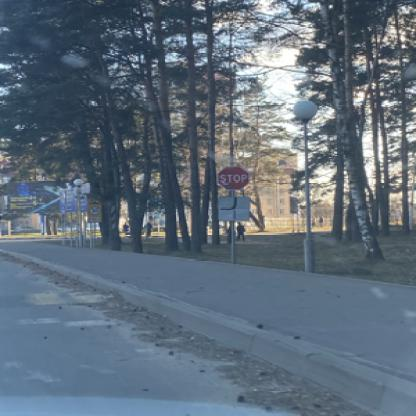speedlimit: (88, 205, 99, 213)
stop: (216, 164, 248, 190)
